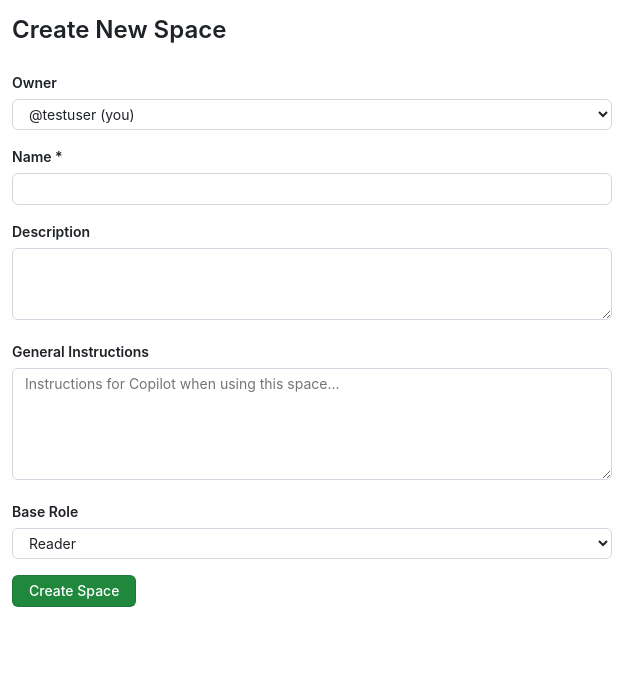
CreateSpacePage › shows error on create failure
In the field: x=312, y=189 [12, 173, 612, 205], type "Fail Space"
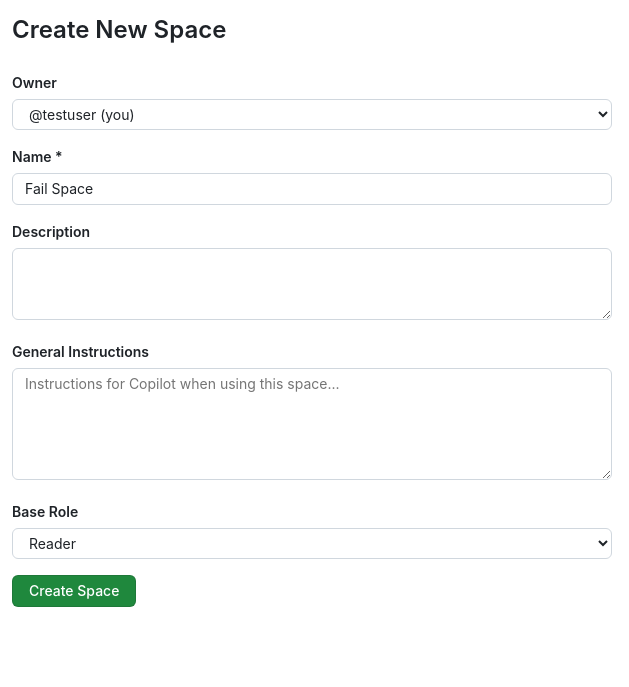
Submit the text "Create Space"
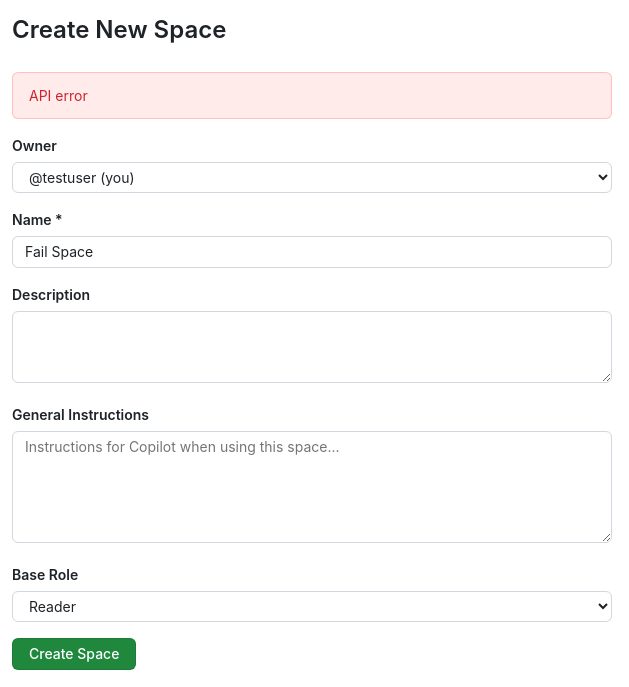
Now the text "API error" is shown, box [12, 72, 612, 119]
